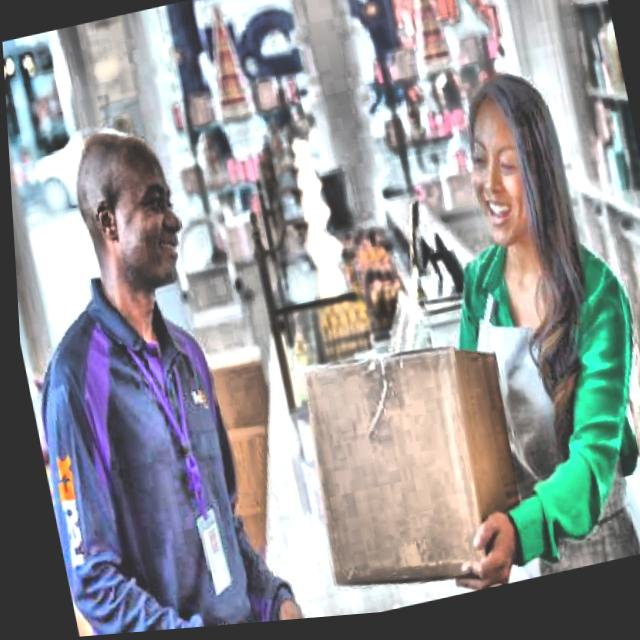Cardbox: (290, 320, 545, 622)
